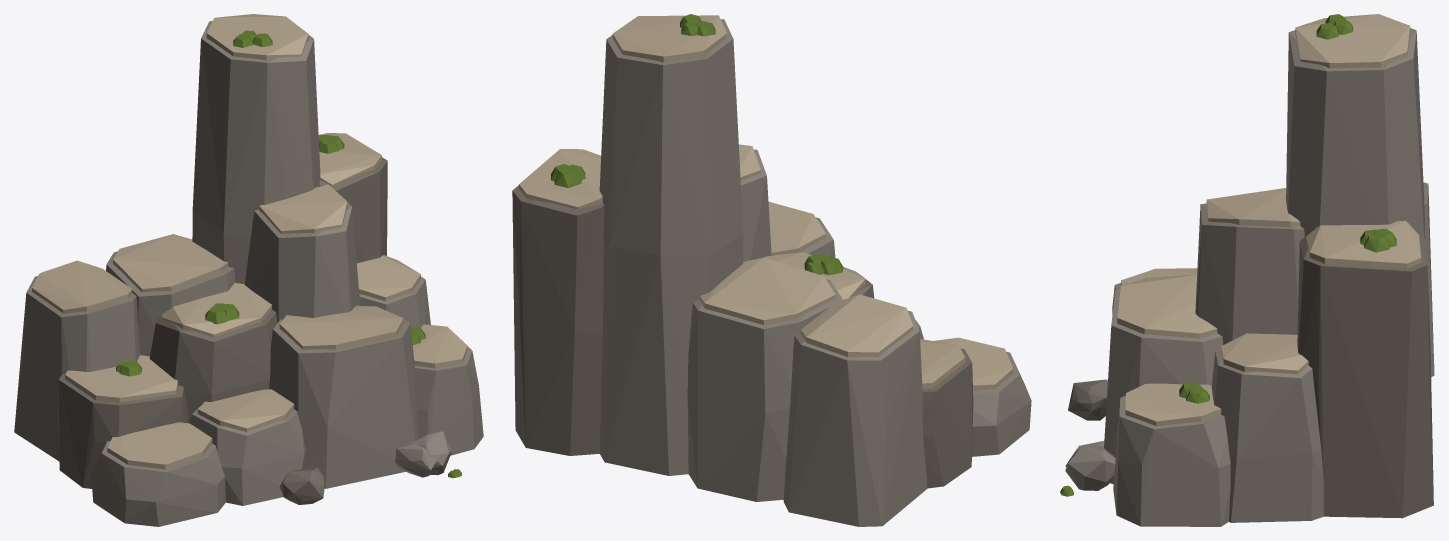
The model's file is Cliff_F.fbx.
3 views of the same model, side by side, from view 1: azimuth 30°, elevation 25°; view 2: azimuth 150°, elevation 25°; view 3: azimuth 270°, elevation 25° (orthographic). The views are drawn at different scales.
Visible parts, largest first — view 1: Cliff, RockLight, CliffDark, Moss; view 2: Cliff, CliffDark, RockLight, Moss; view 3: Cliff, CliffDark, RockLight, Moss.
Boxes of the visible parts, bbox=[...] form: Cliff: bbox=[14, 21, 483, 526]; RockLight: bbox=[32, 14, 467, 469]; CliffDark: bbox=[58, 157, 387, 504]; Moss: bbox=[116, 30, 461, 478]; Cliff: bbox=[599, 19, 1031, 526]; CliffDark: bbox=[512, 185, 973, 488]; RockLight: bbox=[519, 15, 1013, 390]; Moss: bbox=[551, 14, 843, 275]; Cliff: bbox=[1065, 28, 1434, 526]; CliffDark: bbox=[1068, 224, 1433, 518]; RockLight: bbox=[1117, 14, 1421, 426]; Moss: bbox=[1060, 14, 1396, 496].
Bounding box in the file's own units: 16.46 × 16.29 × 13.03.
